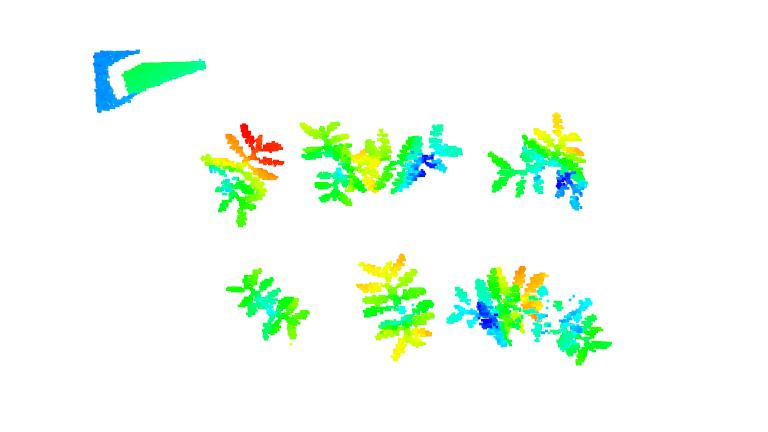chickpea: (452, 267, 610, 365), (485, 110, 587, 206), (199, 123, 284, 229), (354, 252, 432, 361), (366, 123, 465, 196), (224, 267, 310, 343), (300, 118, 367, 207)
